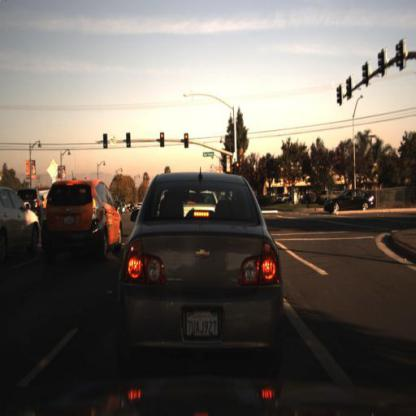car: (123, 175, 280, 375), (33, 167, 123, 279), (43, 178, 125, 262), (1, 184, 44, 263), (321, 186, 376, 216), (9, 186, 52, 222)
trafficLight: (125, 131, 133, 152)
trafficLight-Green: (102, 128, 112, 156)
trafficLight-GreenLeft: (103, 130, 111, 151)
trafficLight-Red: (180, 126, 194, 158), (234, 161, 242, 186), (159, 129, 167, 152), (160, 130, 168, 149), (235, 161, 243, 179), (183, 133, 190, 153)
